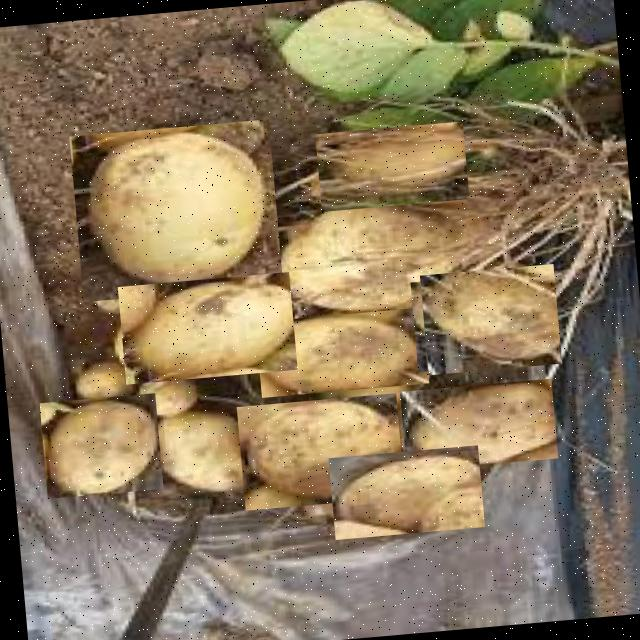Diseased-fungal potato: (284, 190, 470, 326), (235, 392, 404, 510), (254, 308, 428, 398), (418, 264, 560, 374), (146, 392, 265, 523), (327, 444, 484, 540), (398, 378, 556, 471), (409, 270, 552, 372), (38, 392, 162, 498)
Potato: (68, 118, 282, 302), (116, 272, 296, 384)
Sprouted potato: (314, 120, 468, 212)
